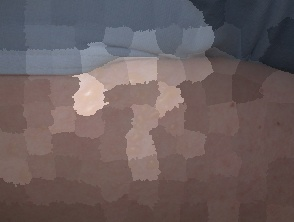SJS-TEN: (0, 36, 294, 222)
